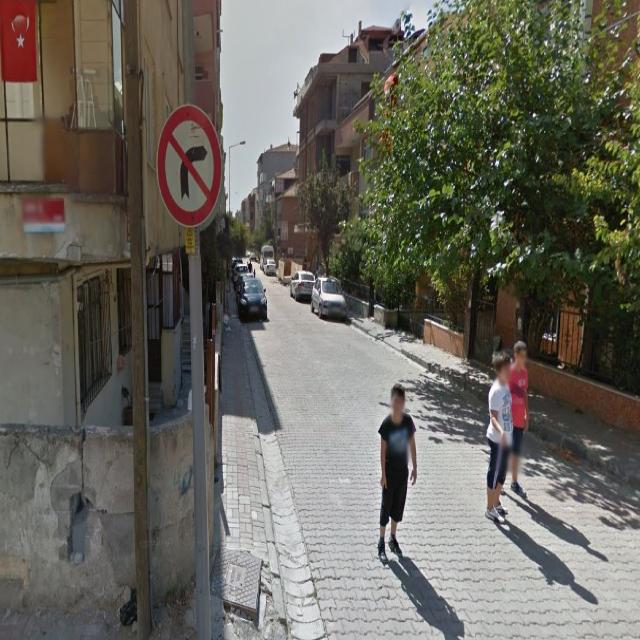sagadonulmez: (157, 105, 222, 226)
